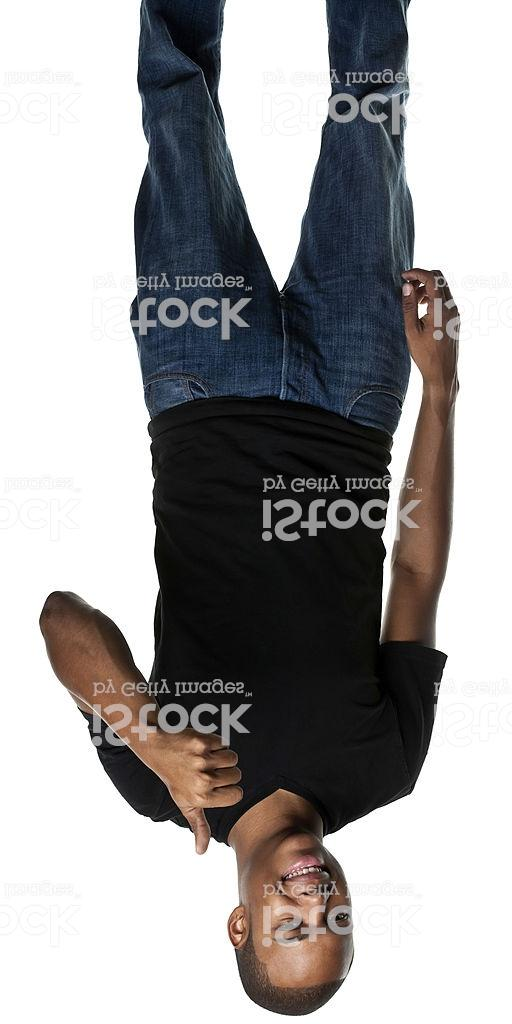thumbsdown: (179, 734, 244, 856)
